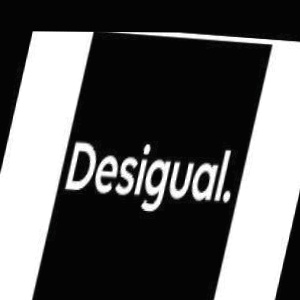desigual: (208, 85, 287, 189)
